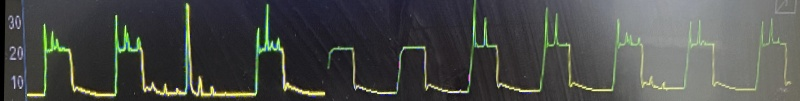hydrop_pressure: (458, 0, 794, 101), (24, 2, 325, 101)
normal_pressure: (328, 36, 453, 101)
